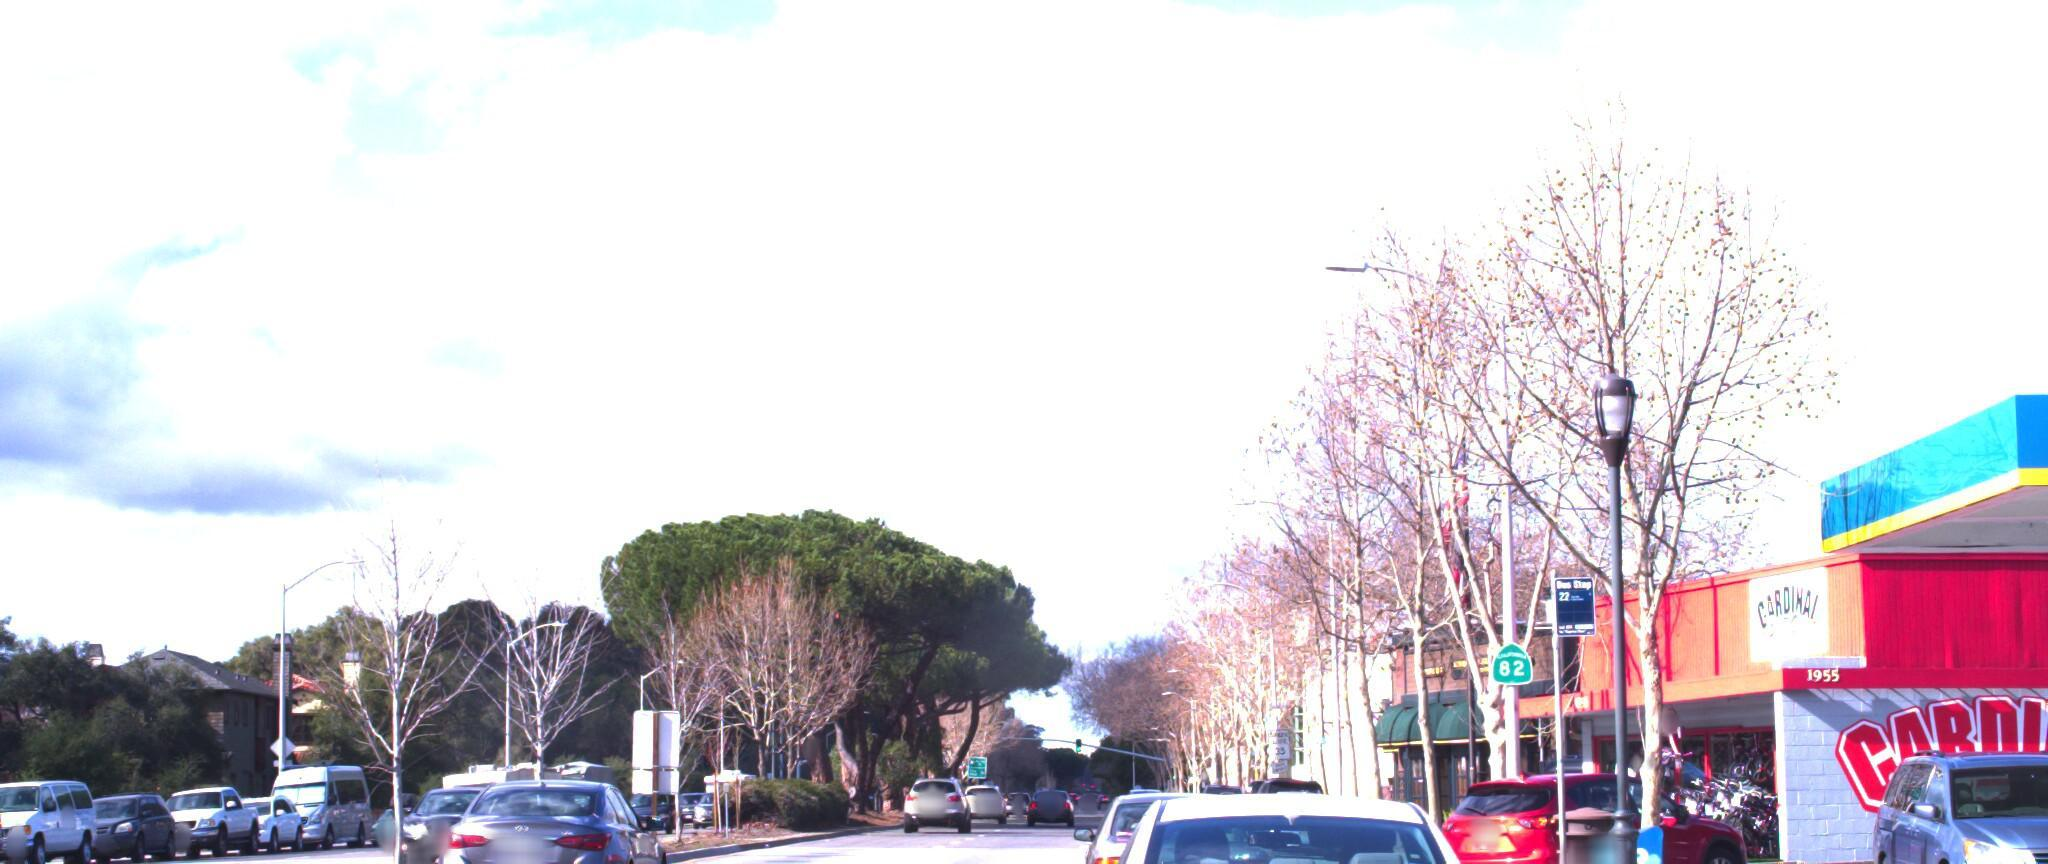car: (1066, 756, 1529, 864), (432, 753, 674, 864), (1847, 736, 2048, 864), (0, 753, 127, 861), (155, 767, 282, 850), (73, 777, 206, 850), (1266, 777, 1358, 848), (2000, 730, 2048, 864), (0, 747, 25, 861)
